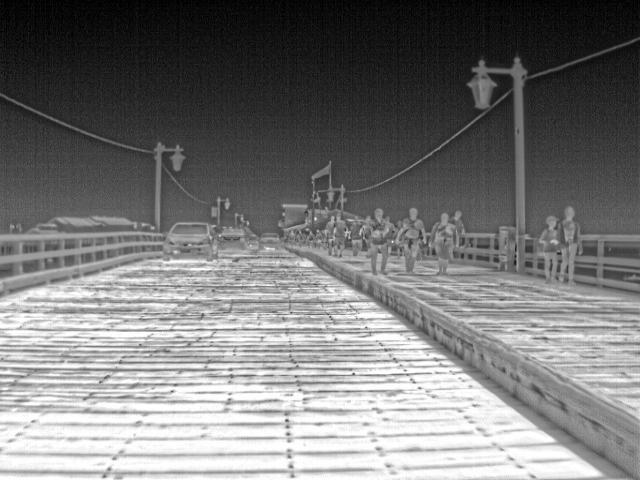car: (162, 222, 217, 262), (213, 227, 243, 247), (254, 230, 278, 248)
person: (557, 204, 584, 283), (364, 208, 394, 276), (397, 206, 427, 270), (428, 210, 455, 274), (537, 214, 561, 278), (332, 213, 348, 257), (348, 214, 364, 256), (448, 209, 466, 246), (323, 214, 337, 257), (303, 228, 317, 250), (314, 228, 326, 253)
